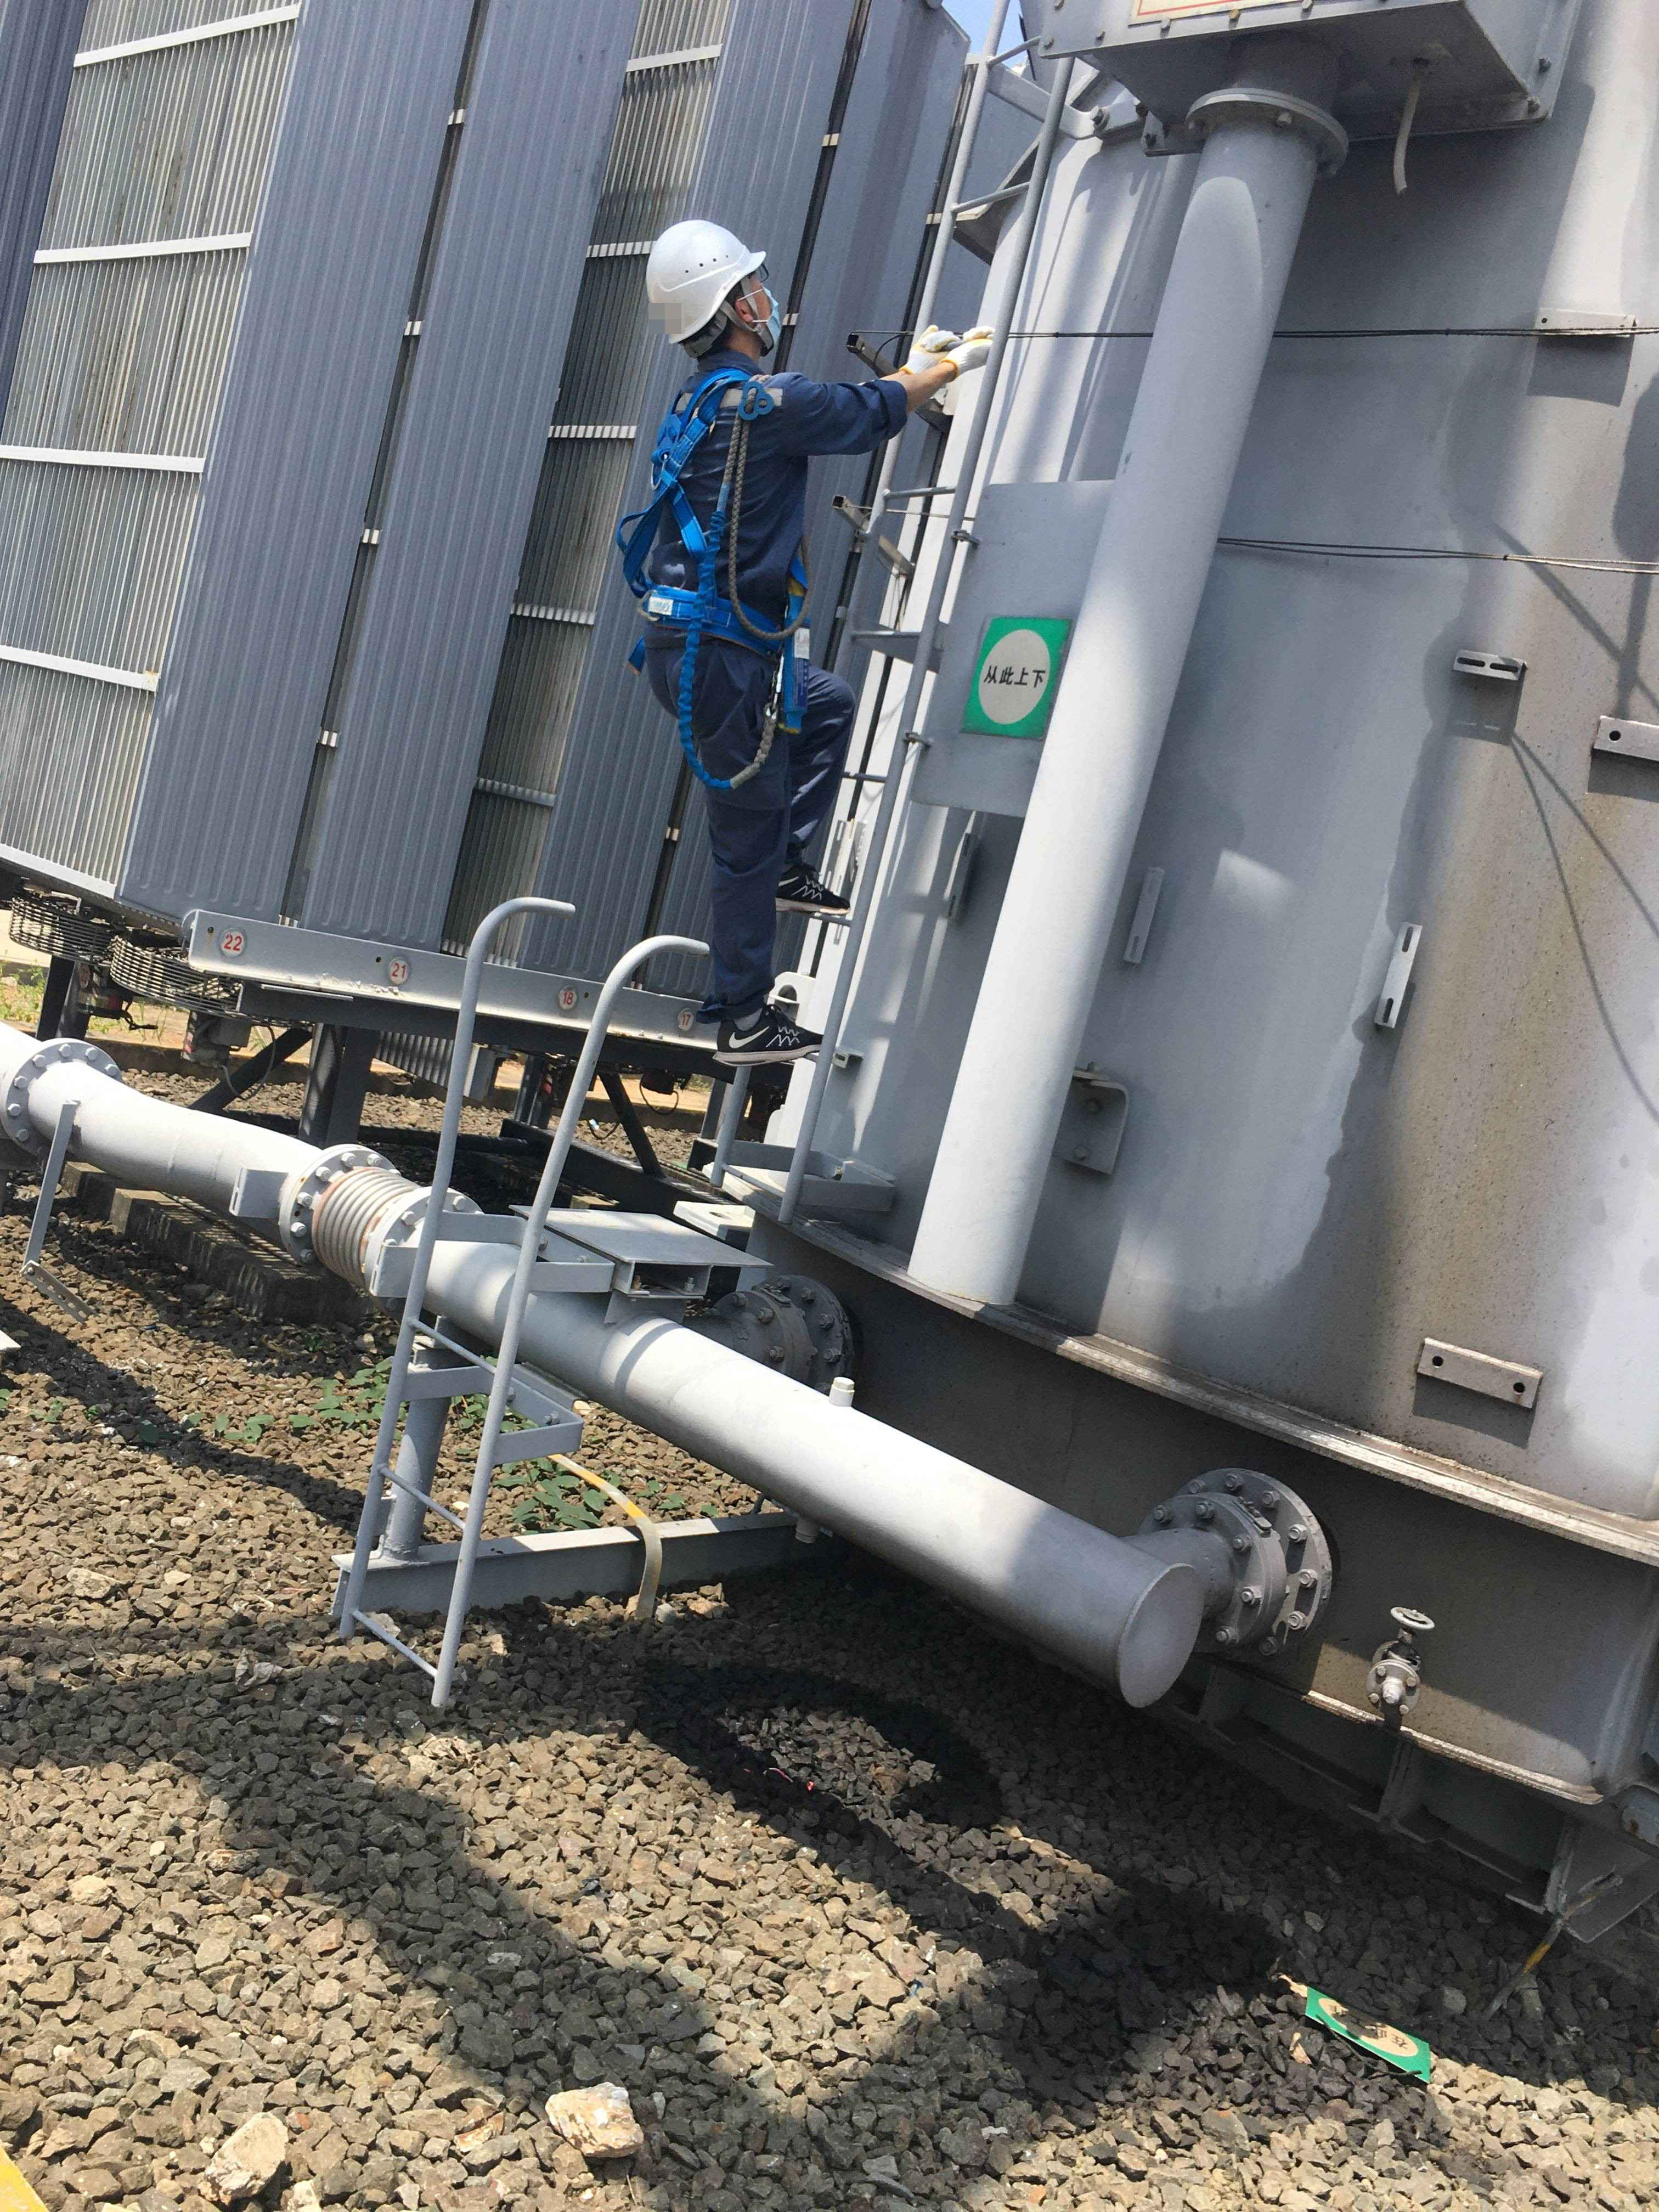downsuit: (664, 662, 880, 1014)
upsuit: (610, 340, 901, 604)
wrongtop: (871, 361, 958, 437)
